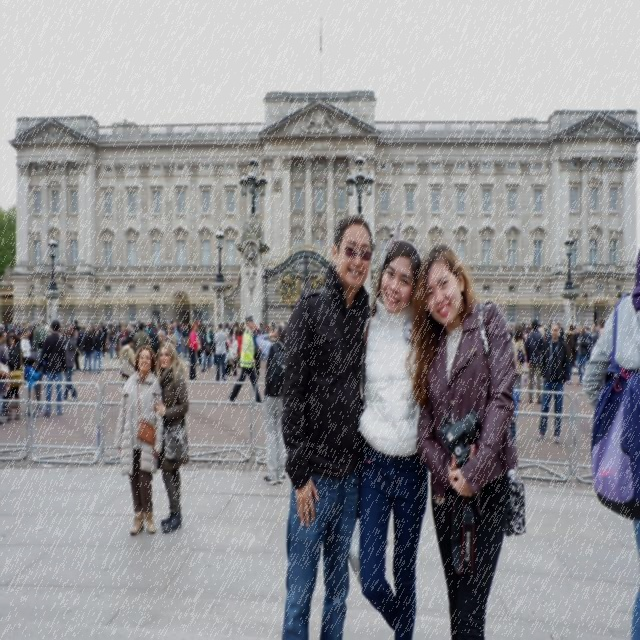pessoa: (281, 216, 378, 640), (416, 242, 518, 640), (354, 240, 434, 640), (584, 247, 640, 639), (113, 344, 165, 535), (153, 342, 190, 534), (256, 321, 288, 486), (536, 319, 572, 444), (228, 314, 266, 407), (37, 318, 68, 418), (524, 318, 546, 404), (4, 332, 24, 422), (60, 324, 80, 404), (511, 327, 527, 402), (23, 356, 42, 418), (574, 324, 590, 386), (186, 322, 202, 381), (119, 333, 136, 388), (0, 337, 10, 425), (564, 323, 578, 385), (214, 322, 228, 383), (56, 319, 83, 349), (508, 382, 520, 449), (588, 317, 606, 358), (518, 322, 533, 368), (32, 314, 49, 352), (92, 327, 105, 375), (82, 328, 95, 375), (522, 352, 539, 387), (150, 330, 168, 362), (92, 322, 108, 358), (251, 323, 261, 379), (132, 322, 152, 350), (20, 327, 33, 370), (251, 324, 260, 381), (204, 323, 214, 372), (0, 330, 12, 366), (132, 322, 168, 334), (73, 328, 82, 372), (224, 318, 246, 336), (230, 333, 239, 376), (84, 327, 94, 364), (200, 326, 208, 372), (230, 333, 238, 376), (196, 326, 204, 367), (114, 324, 123, 359), (236, 329, 244, 368), (108, 326, 117, 360), (227, 340, 235, 376), (182, 323, 190, 359), (164, 324, 176, 348), (584, 327, 592, 362), (258, 322, 265, 362), (174, 324, 182, 359), (164, 327, 176, 348), (213, 324, 219, 366), (80, 326, 88, 356), (267, 326, 277, 344), (507, 324, 518, 338), (538, 322, 546, 340), (224, 327, 232, 345), (558, 325, 566, 343), (178, 318, 185, 338), (262, 322, 272, 335), (542, 326, 550, 341), (38, 338, 44, 358), (126, 324, 134, 338), (109, 322, 117, 335), (193, 316, 200, 328), (572, 327, 578, 340), (543, 327, 549, 340), (548, 319, 553, 334), (270, 321, 276, 333), (172, 322, 178, 334), (78, 324, 82, 340), (592, 321, 598, 331), (118, 321, 124, 331), (170, 320, 175, 330), (590, 327, 596, 335), (187, 354, 192, 362), (152, 324, 157, 331)
